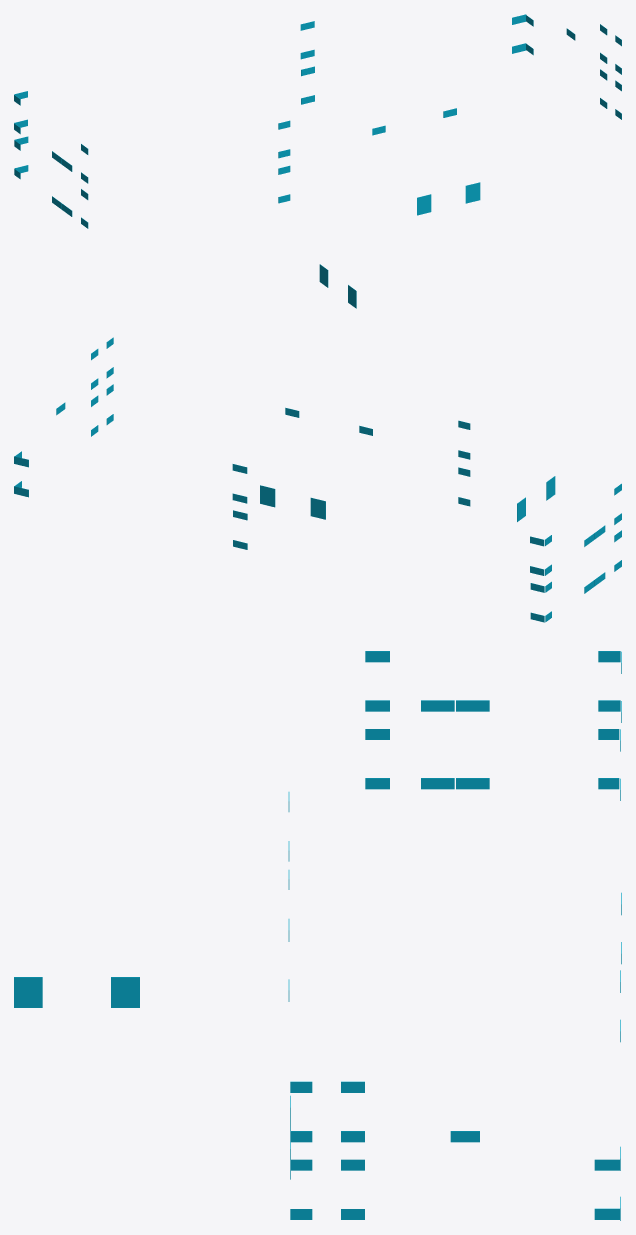
The picture shows the model from 3 angles, top to bottom: view 1: azimuth 30°, elevation 25°; view 2: azimuth 150°, elevation 25°; view 3: azimuth 270°, elevation 25°; orthographic projection. The views are drawn at different scales.
Visible parts, largest first — view 1: no part large enough to name; view 2: no part large enough to name; view 3: 玻璃 [676385][e14f5541-c901-493c-93c7-5b24743b7f03-000a5221], 玻璃 [677307][e14f5541-c901-493c-93c7-5b24743b7f03-000a55bb].
Part boxes in pixels (x1,y1,x2,y2): 玻璃 [676385][e14f5541-c901-493c-93c7-5b24743b7f03-000a5221]: [111, 977, 139, 1007]; 玻璃 [677307][e14f5541-c901-493c-93c7-5b24743b7f03-000a55bb]: [14, 977, 42, 1007].
Size of the model in its own units: 44.57 by 10.5 by 26.57.
